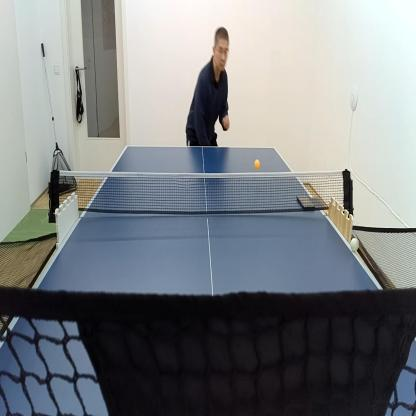Ball: (350, 238, 358, 253), (255, 160, 259, 168)
